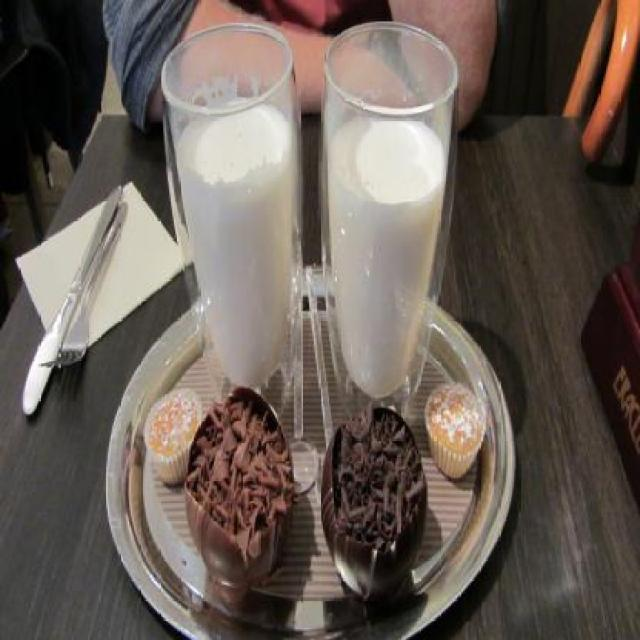Milk: (320, 90, 457, 358), (173, 97, 299, 388)
